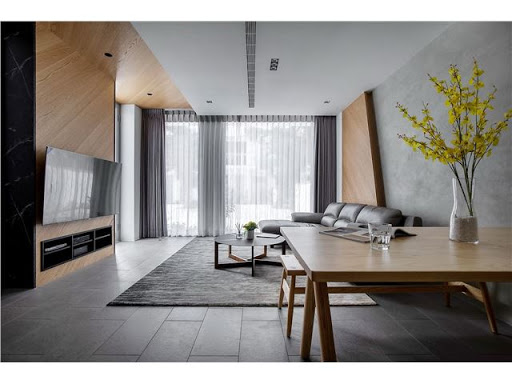sofa: (291, 201, 421, 295)
table: (273, 226, 512, 360), (215, 229, 285, 279)
tv: (41, 147, 128, 225)
